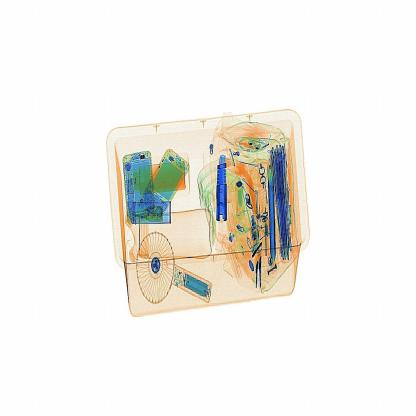pliers: (203, 152, 241, 232)
